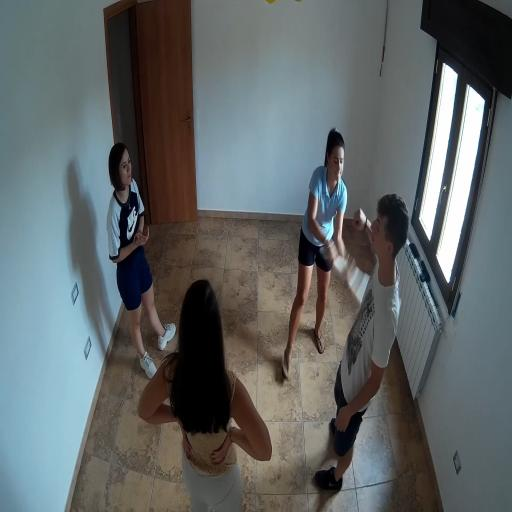violencia: (273, 100, 414, 504)
